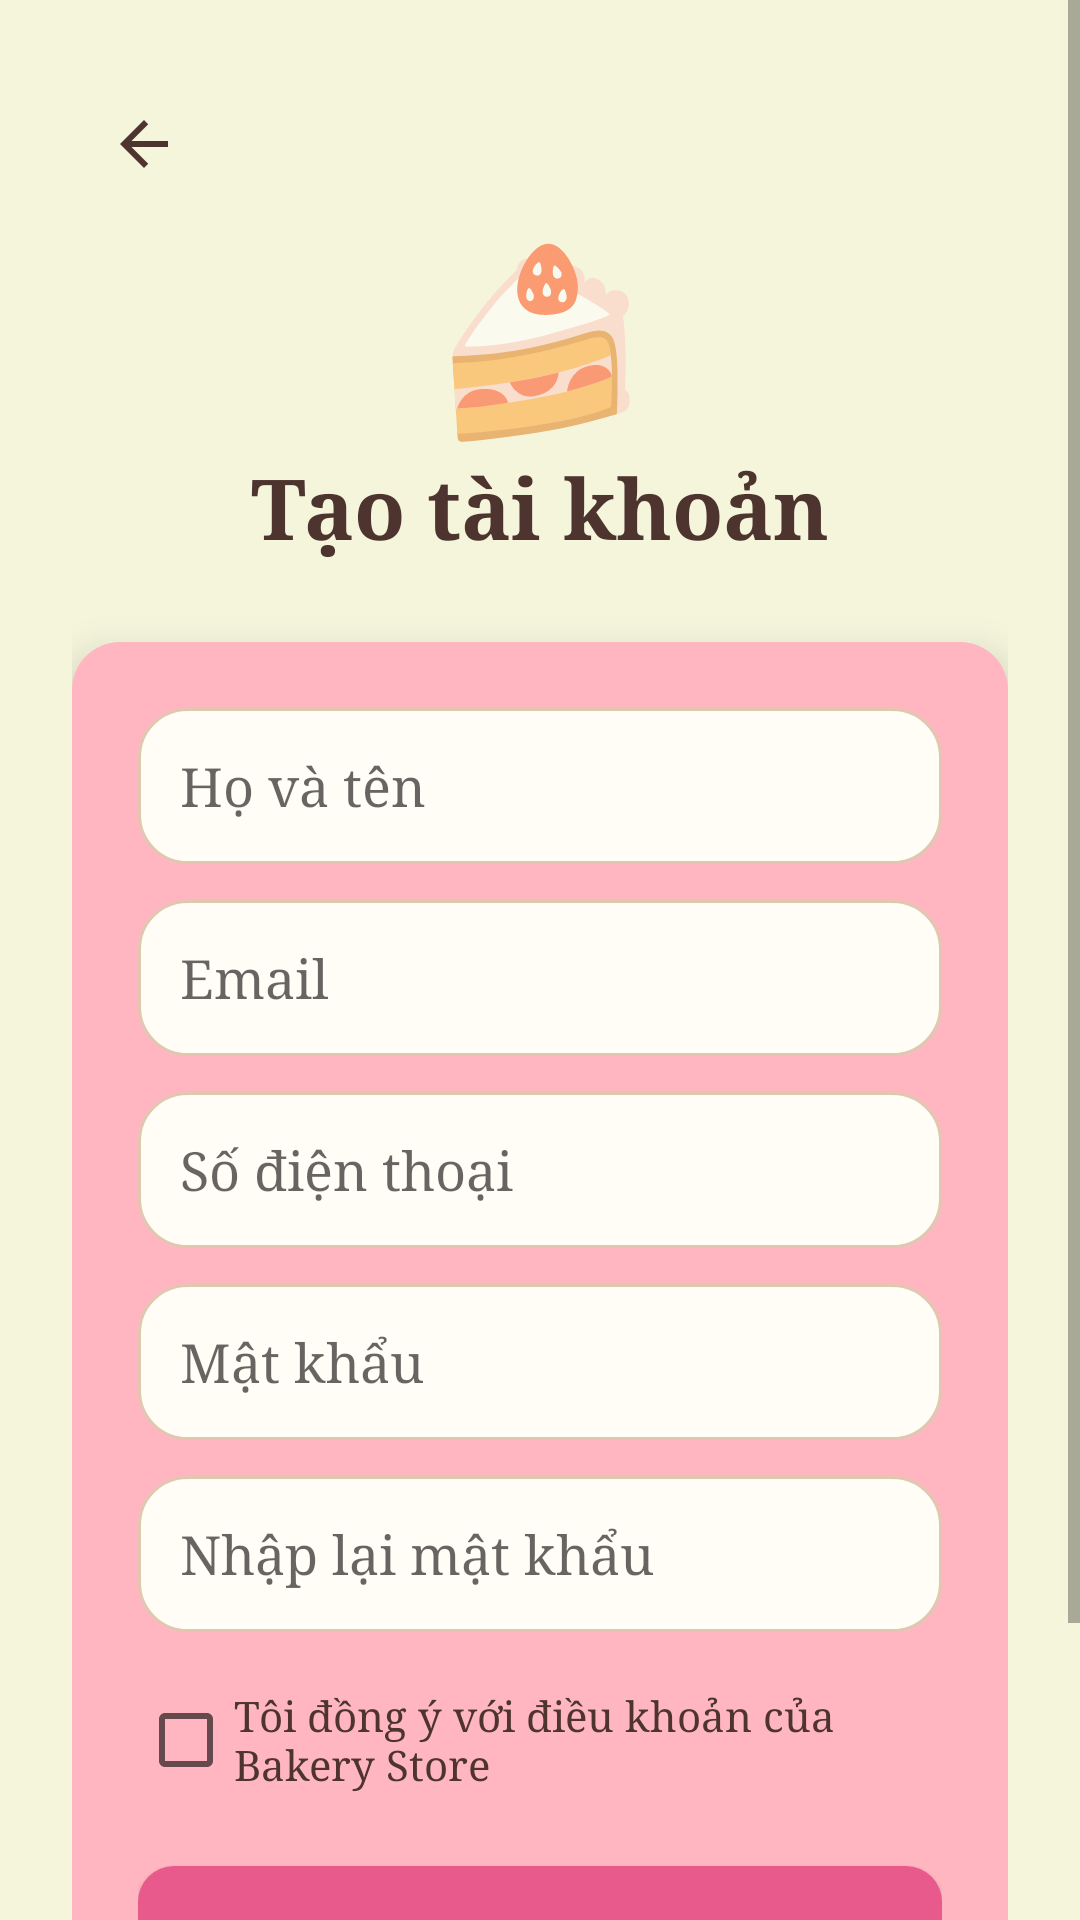

Point at icon controls on the screen. Image size 1080 × 1920, points as point (x, y).
Back: point (144, 144)
